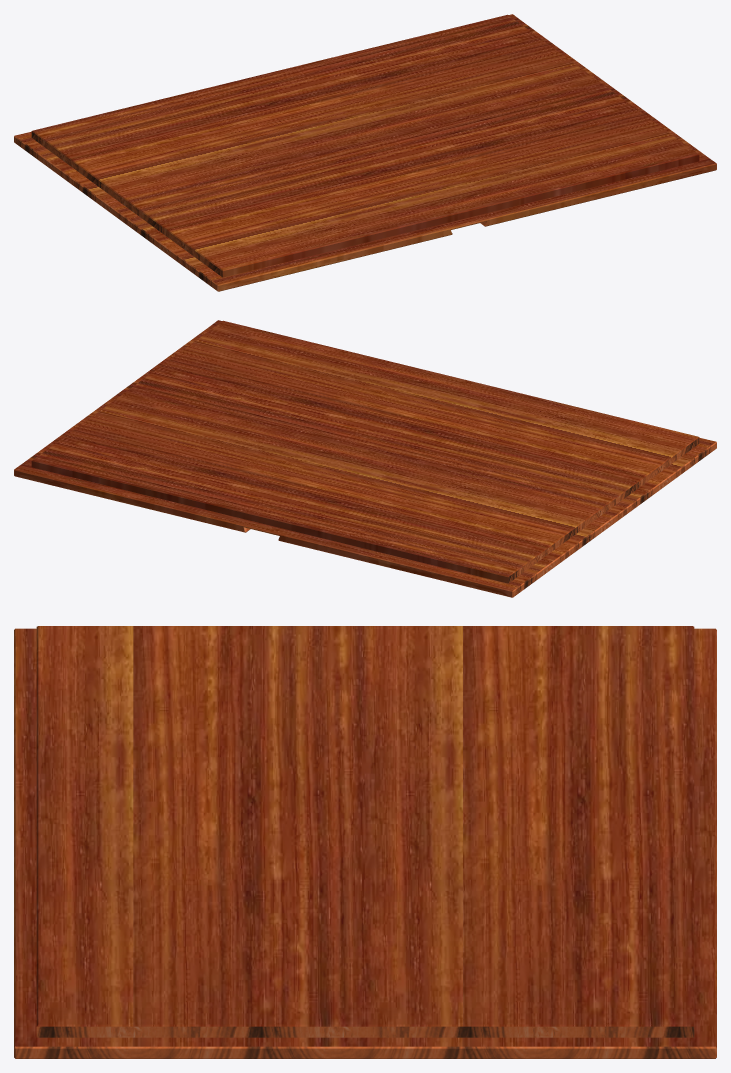
File: GMY_J_zuoban.FBX
The picture shows the model from 3 angles, top to bottom: view 1: azimuth 30°, elevation 25°; view 2: azimuth 150°, elevation 25°; view 3: azimuth 270°, elevation 25°; orthographic projection. The views are drawn at different scales.
Visible parts, largest first — view 1: GMY_J_zuoban; view 2: GMY_J_zuoban; view 3: GMY_J_zuoban.
Part boxes in pixels (x1,y1,x2,y2): GMY_J_zuoban: (14, 14, 716, 291); GMY_J_zuoban: (14, 320, 716, 597); GMY_J_zuoban: (14, 626, 716, 1058).
Size of the model in its own units: 43.74 by 1.2 by 31.
